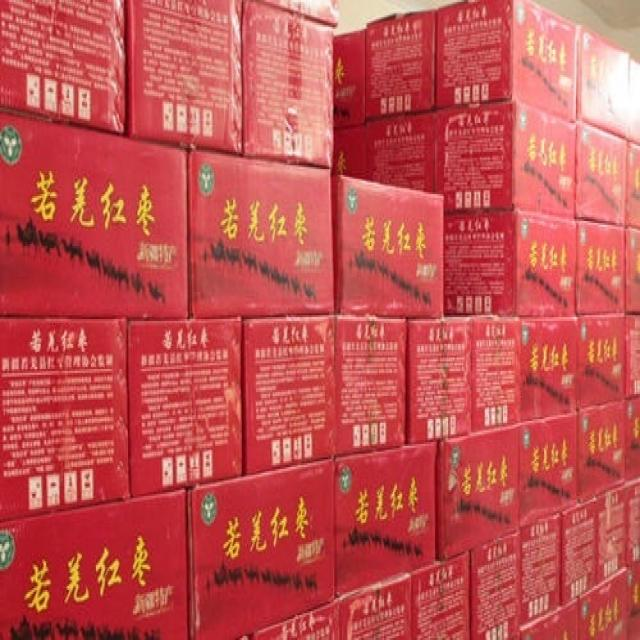box: (0, 106, 188, 316), (1, 486, 192, 638), (186, 456, 337, 638), (0, 315, 129, 519), (188, 144, 336, 314), (125, 315, 243, 497), (125, 1, 243, 153), (435, 1, 580, 121), (435, 97, 577, 217), (331, 170, 446, 314), (1, 1, 127, 132), (336, 441, 438, 597), (242, 3, 334, 168), (243, 314, 336, 473), (444, 208, 578, 318), (435, 424, 518, 559), (335, 312, 409, 457), (407, 313, 472, 441), (364, 8, 436, 118), (517, 413, 580, 526), (519, 314, 578, 423), (365, 110, 437, 196), (470, 312, 520, 432), (577, 25, 629, 139), (408, 549, 470, 638), (469, 530, 520, 636), (576, 121, 627, 226), (338, 571, 411, 638), (576, 220, 627, 314), (576, 312, 626, 407), (520, 512, 560, 626), (579, 400, 626, 496), (559, 493, 594, 606), (249, 596, 341, 638), (579, 570, 628, 638), (595, 480, 625, 588), (333, 31, 366, 128), (520, 596, 581, 637), (331, 119, 368, 178), (624, 226, 639, 314), (625, 396, 639, 482), (626, 141, 639, 231), (625, 312, 638, 397), (627, 475, 638, 567), (629, 58, 639, 146), (626, 563, 639, 614), (628, 614, 638, 638)
